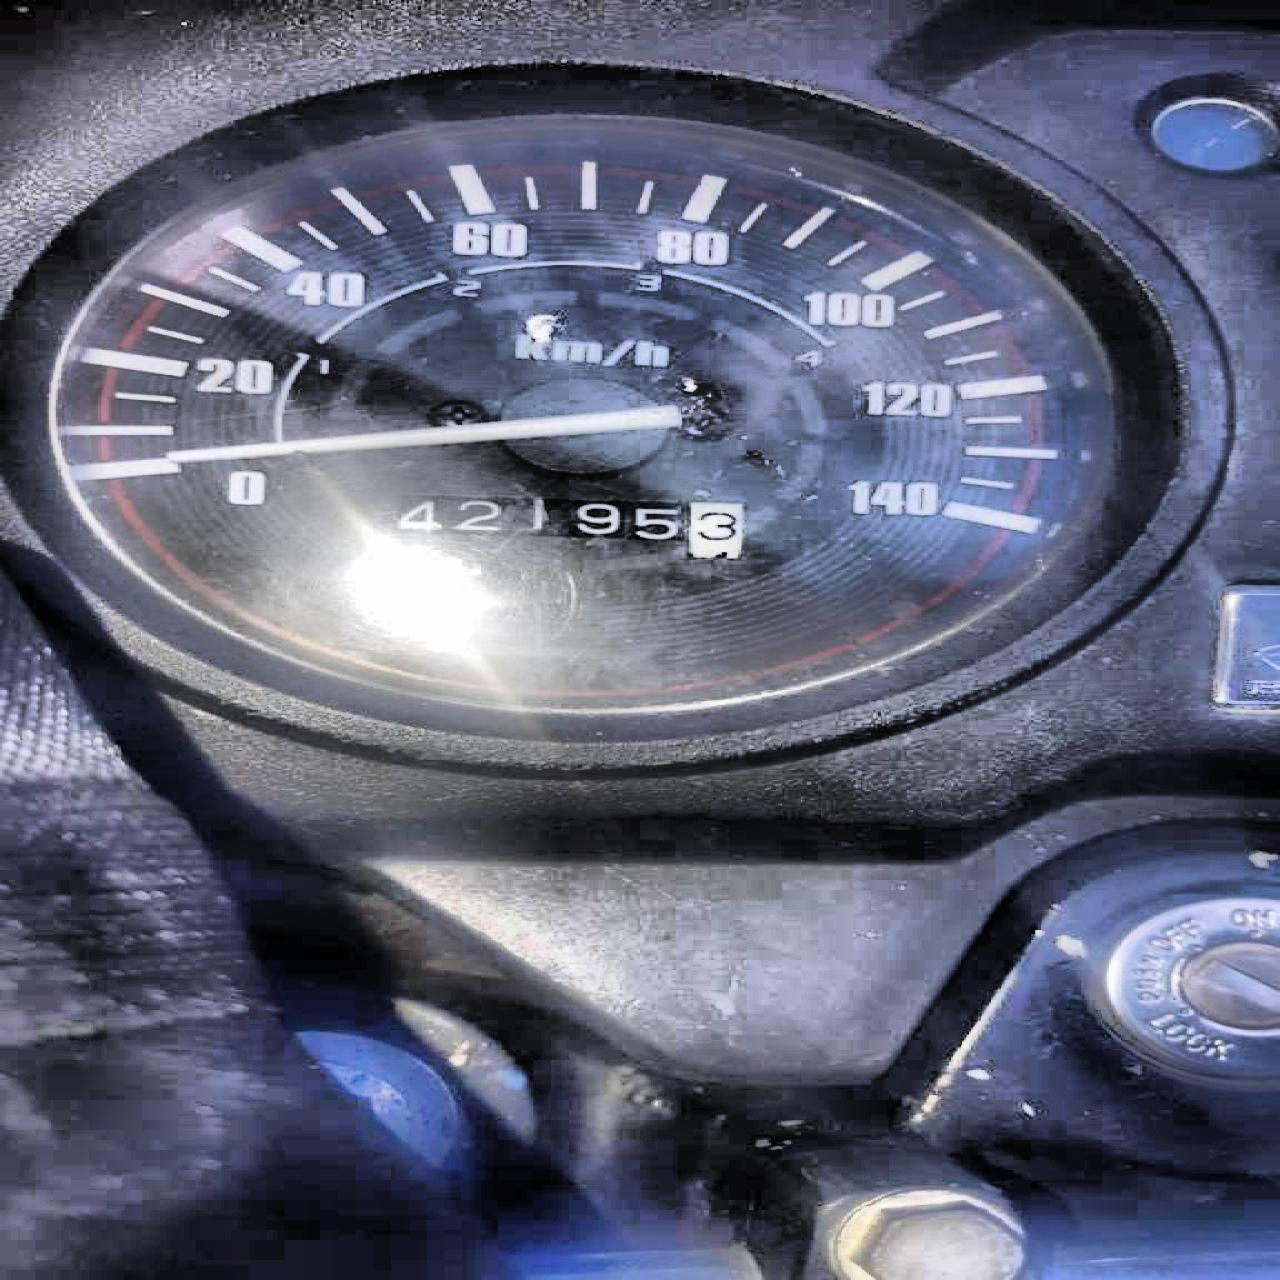1: (526, 497, 545, 529)
2: (447, 498, 501, 531)
3: (694, 510, 735, 540)
4: (393, 498, 440, 532)
5: (633, 506, 678, 539)
9: (573, 502, 618, 533)
odometer: (382, 489, 749, 560)
